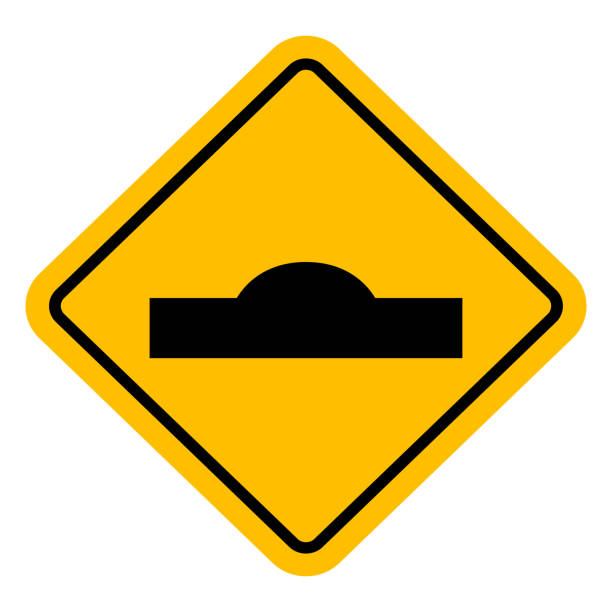speed-breaker: (45, 54, 567, 563)
